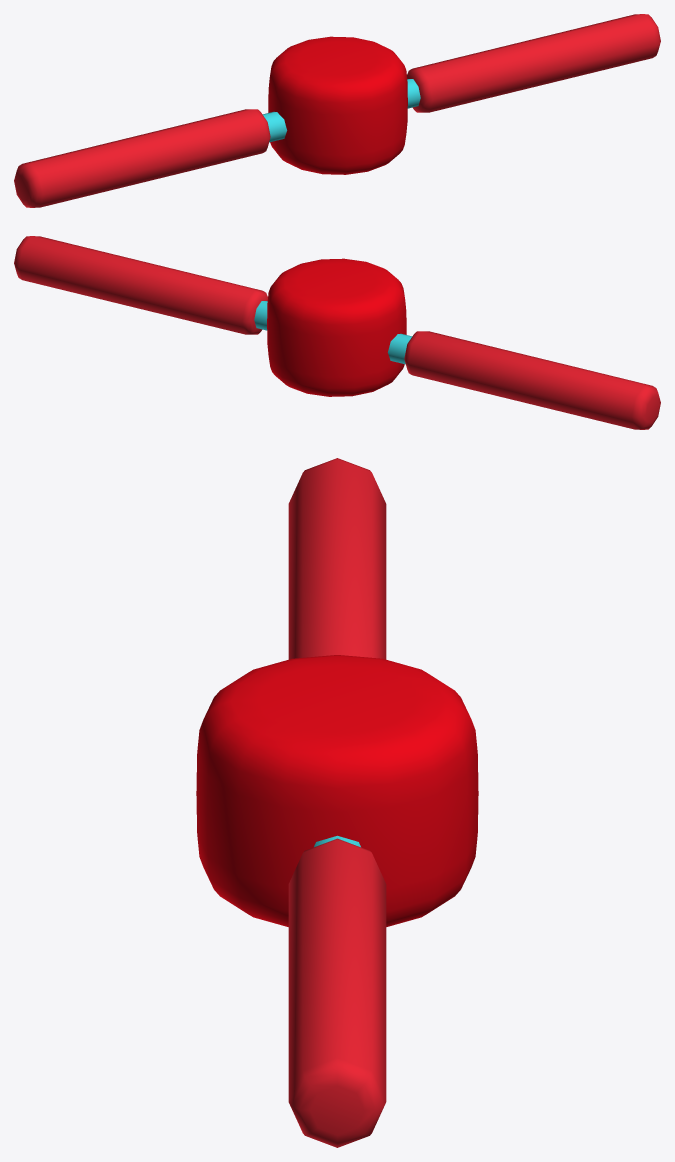
File: RotaryArms_Obstacles.fbx
The picture shows the model from 3 angles, top to bottom: view 1: azimuth 30°, elevation 25°; view 2: azimuth 150°, elevation 25°; view 3: azimuth 270°, elevation 25°; orthographic projection. The views are drawn at different scales.
Parts seen in each view (by area): view 1: Cylinder.003, Cylinder.005; view 2: Cylinder.003, Cylinder.005; view 3: Cylinder.005, Cylinder.003.
Boxes of the visible parts, x1,y1,x2,y2 form: Cylinder.003: [14, 14, 660, 207]; Cylinder.005: [268, 36, 407, 174]; Cylinder.003: [14, 236, 660, 429]; Cylinder.005: [267, 258, 406, 396]; Cylinder.005: [196, 655, 478, 926]; Cylinder.003: [288, 458, 386, 1147].
Size of the model in its own units: 1356 by 195 by 263.
